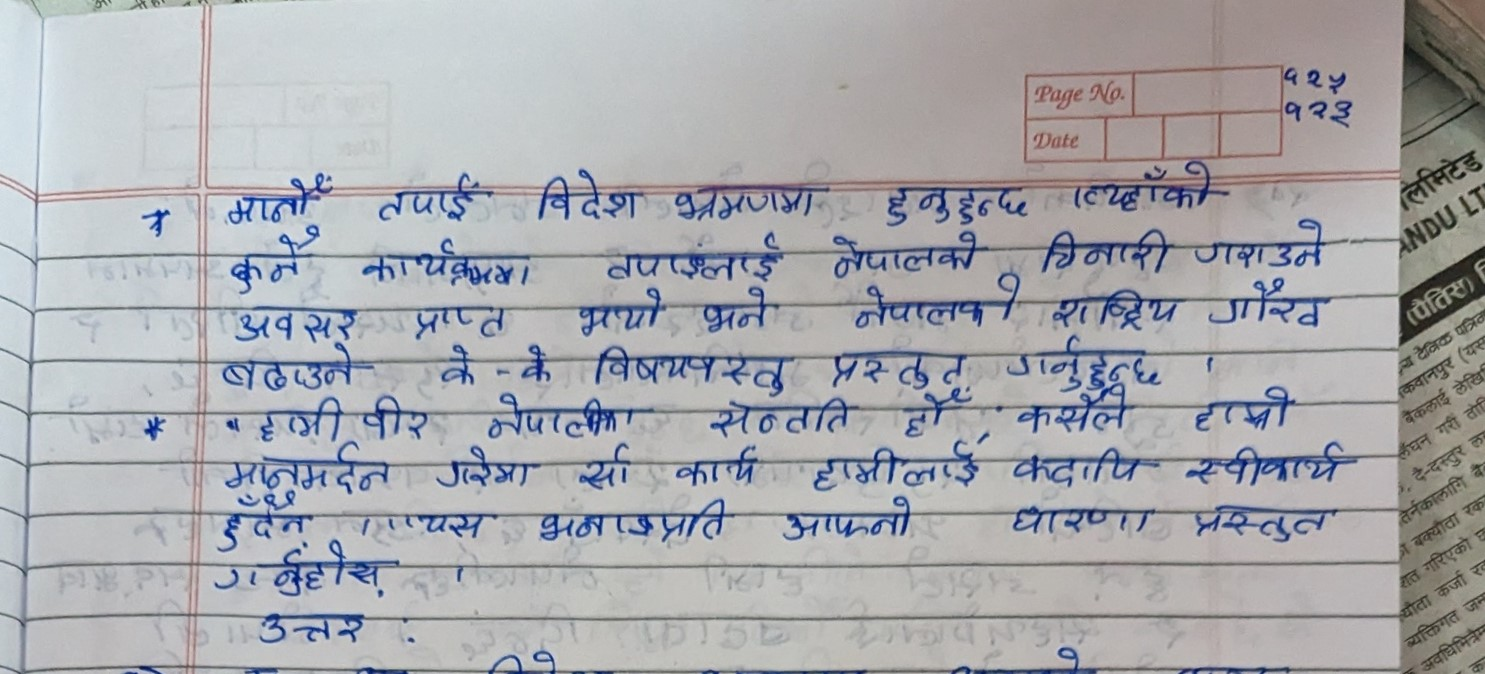text: (1077, 142, 1234, 228), (594, 233, 801, 291), (587, 343, 798, 394), (356, 155, 499, 229), (537, 499, 735, 548), (355, 241, 540, 293), (847, 278, 1021, 332), (519, 162, 649, 233), (874, 172, 1034, 228), (216, 551, 391, 602), (807, 442, 993, 489), (1001, 335, 1164, 388), (1186, 222, 1336, 278), (1179, 440, 1356, 487), (823, 234, 991, 283), (1184, 489, 1341, 541), (1037, 219, 1175, 278), (473, 397, 655, 441), (223, 445, 396, 491), (219, 346, 373, 396), (777, 492, 925, 544), (665, 179, 813, 228), (1007, 499, 1158, 546), (707, 392, 861, 438), (224, 227, 328, 291), (1205, 279, 1332, 331), (1016, 386, 1141, 438), (221, 172, 338, 227), (1007, 446, 1161, 487), (211, 491, 316, 550), (256, 605, 380, 654), (1187, 384, 1296, 439), (824, 347, 968, 388), (228, 299, 358, 344), (434, 445, 545, 496), (1053, 287, 1183, 329), (568, 288, 667, 336), (669, 446, 772, 492), (893, 388, 977, 440), (259, 397, 351, 444), (408, 303, 518, 342), (697, 289, 780, 338), (360, 390, 436, 441), (576, 442, 640, 494), (410, 504, 492, 543), (1276, 97, 1361, 134), (430, 339, 482, 387), (1280, 64, 1355, 94), (512, 342, 565, 383)
